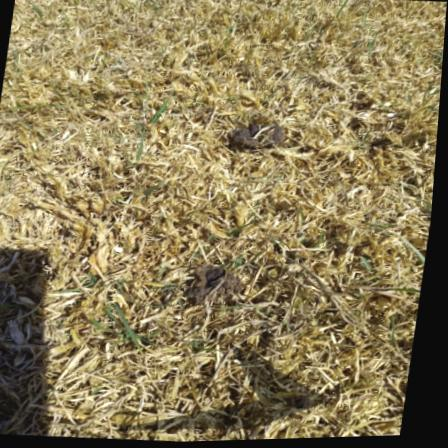dog-poop: (224, 112, 294, 164), (185, 263, 249, 315)
